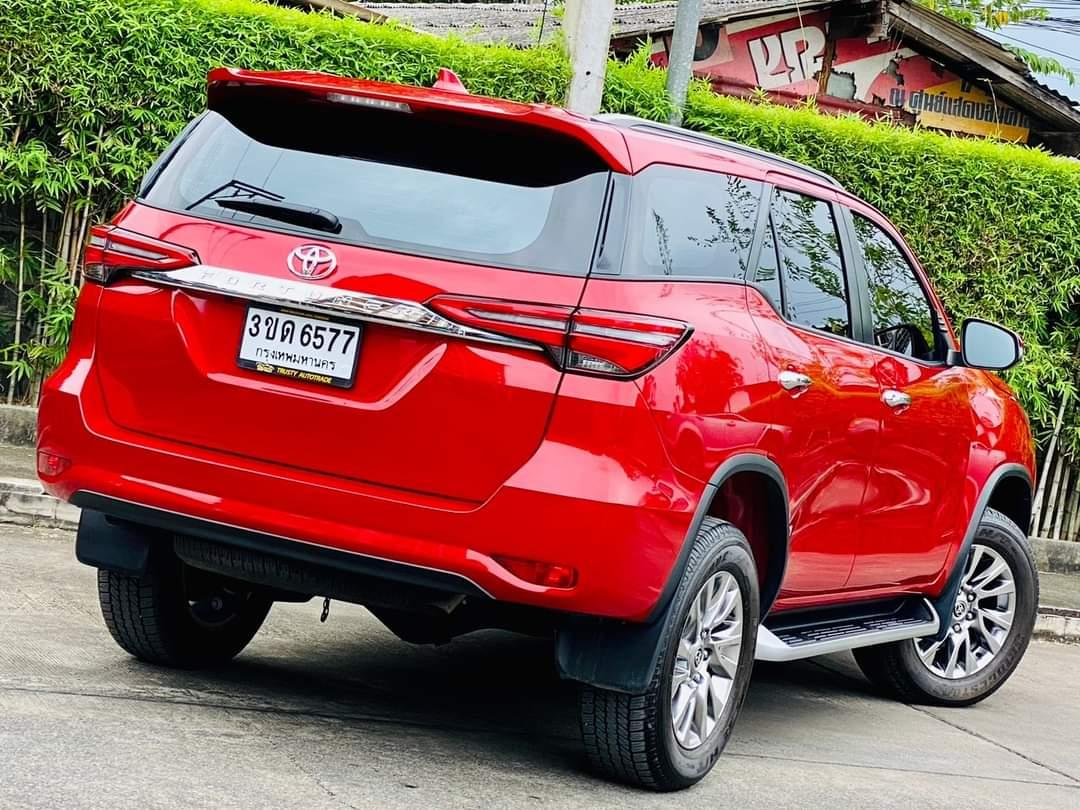license-plate: (232, 298, 370, 398)
